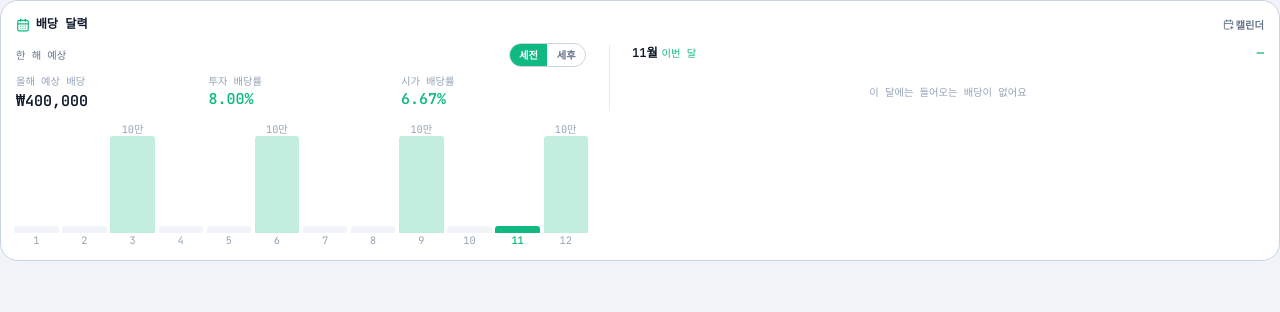
it: 세전 · 세후 토글 › 세후로 갔다가 세전으로 돌아오면 원래 금액이 그대로 온다
The width and height of the screenshot is (1280, 312).
Expected: the text "올해 예상 배당" is shown, left=16, top=74, right=85, bottom=88
Click the button "세후" at point(566, 55), box left=547, top=44, right=585, bottom=66
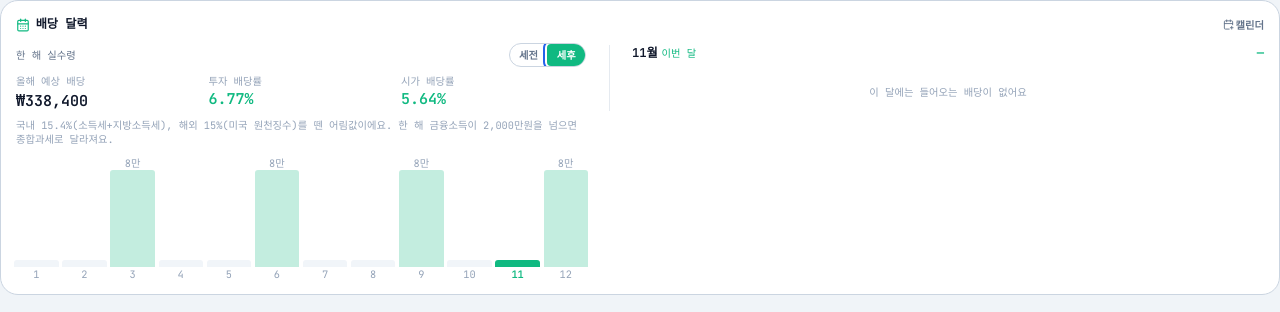
Expected: the text "₩338,400" is shown, left=16, top=91, right=88, bottom=111
Click the button "세전" at point(528, 55), box left=510, top=44, right=547, bottom=66
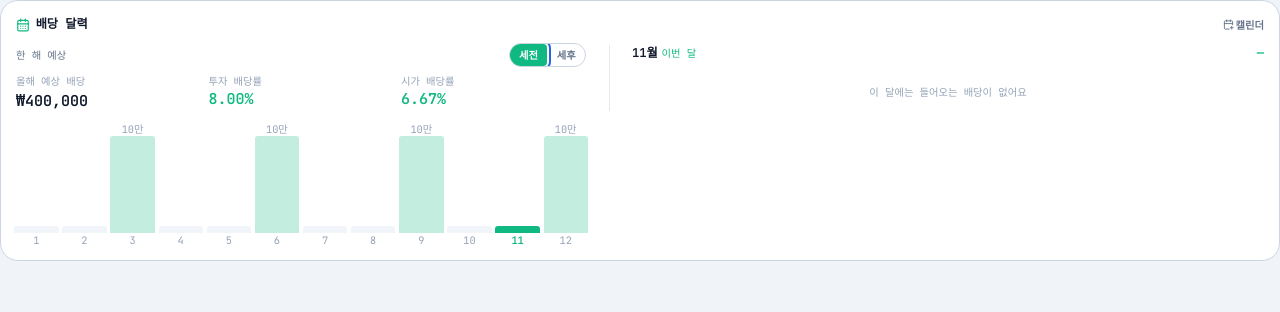
Expected: the text "₩400,000" is shown, left=16, top=91, right=88, bottom=111
Expected: the text "8.00%" is shown, left=208, top=89, right=254, bottom=109
Expected: the text "2,000만원" is gone
